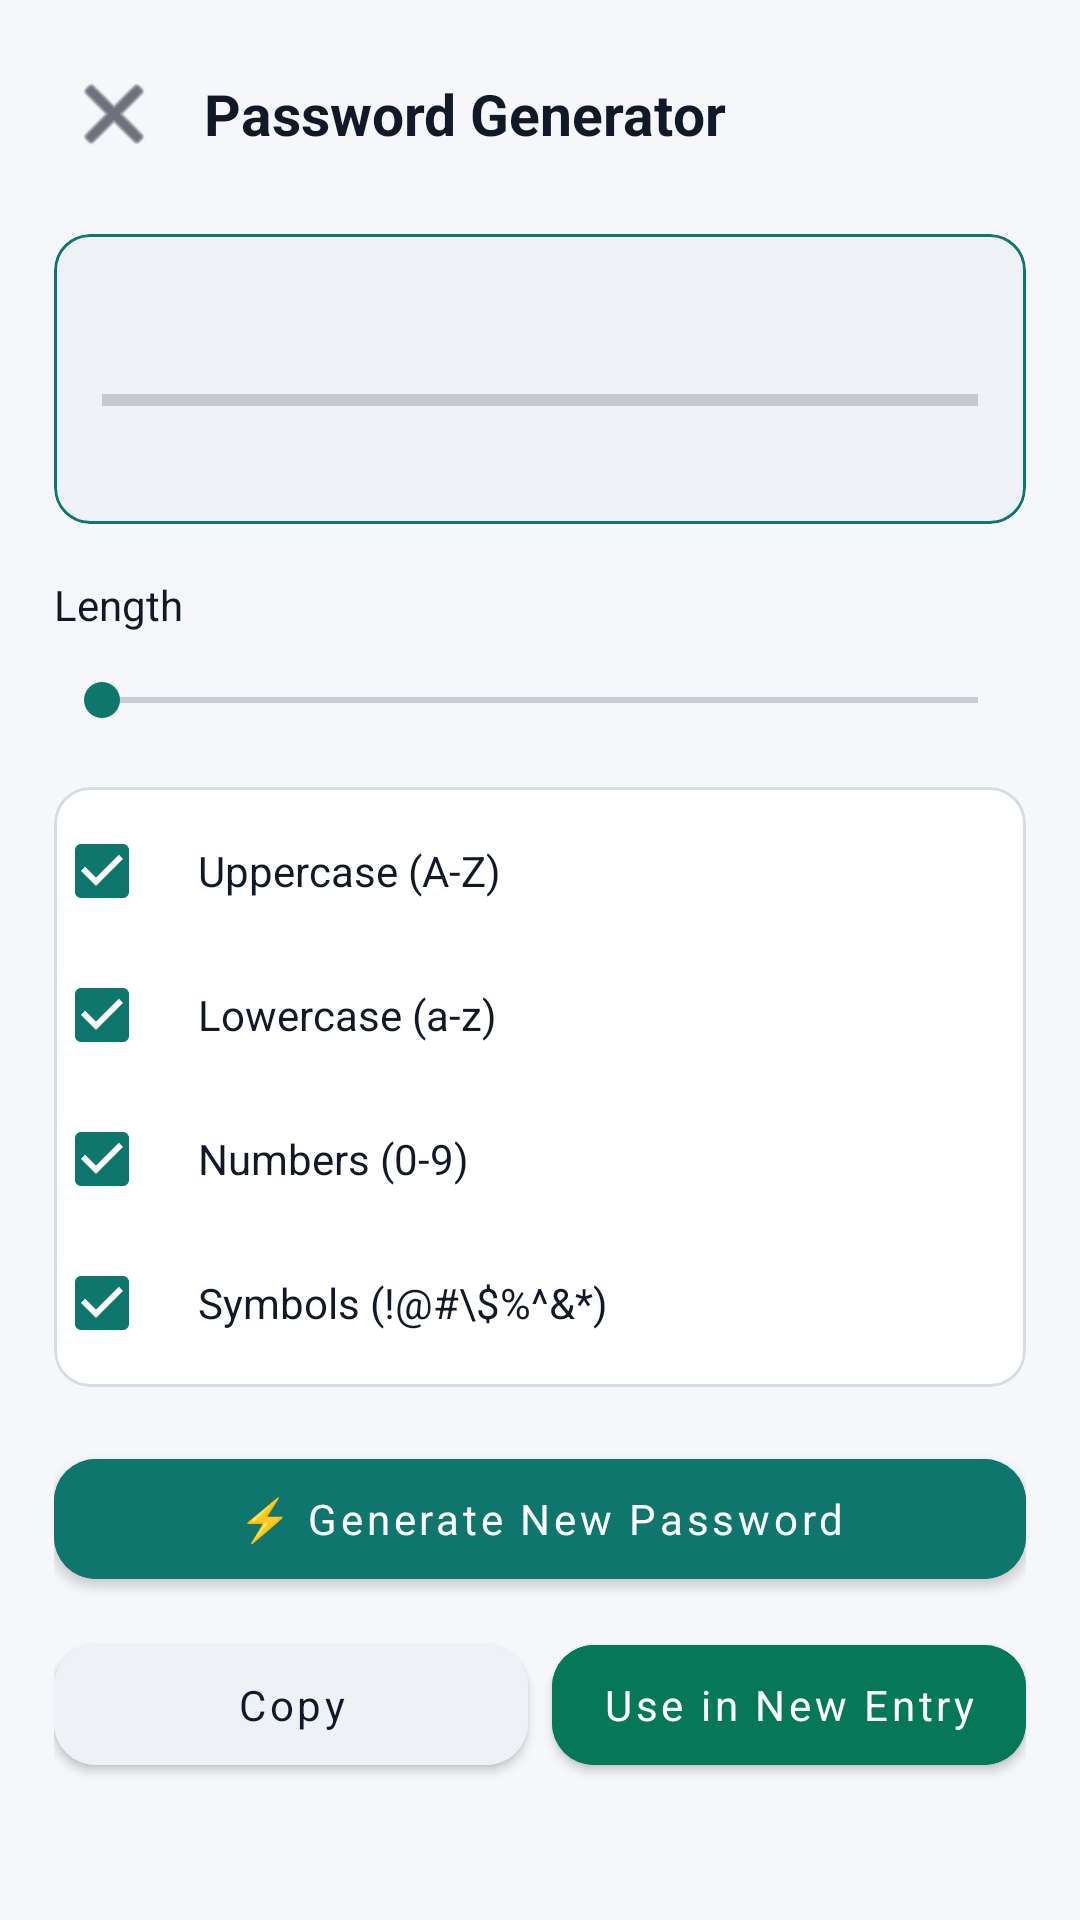

Where icons sit on this 1080px×1920px app screen, as (x1, y1, x2, y2):
close clear cancel: (84, 84, 144, 144)
